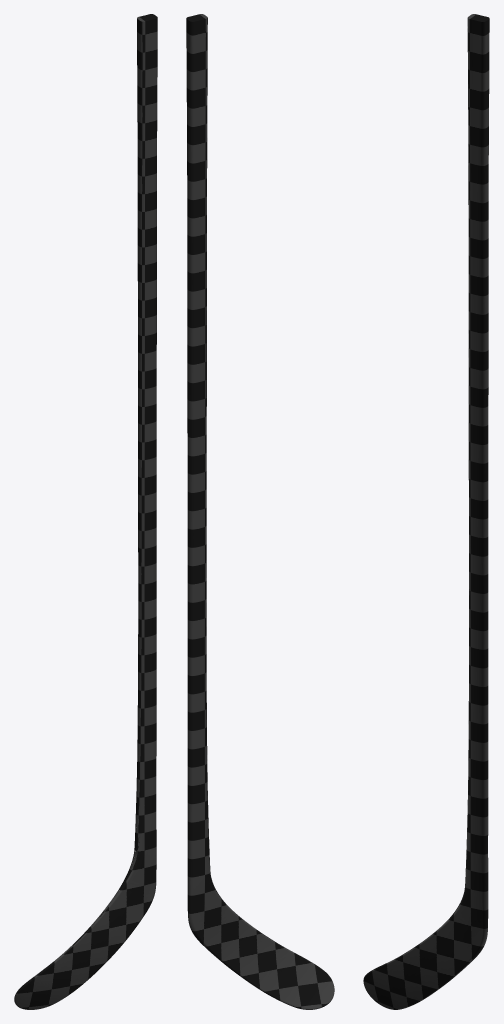
The model's file is P62-SBO.glb.
3 renders of one model, left to right at view 1: azimuth 30°, elevation 25°; view 2: azimuth 210°, elevation 25°; view 3: azimuth 330°, elevation 25°, orthographic. The views are drawn at different scales.
Visible parts, largest first — view 1: geometry_0; view 2: geometry_0; view 3: geometry_0.
Part boxes in pixels (x1,y1,x2,y2): geometry_0: (14,14,157,1009); geometry_0: (186,14,334,1009); geometry_0: (363,14,489,1009).
Bounding box in the file's own units: 229 × 1650 × 53.77.
1 material, 1 textured.
